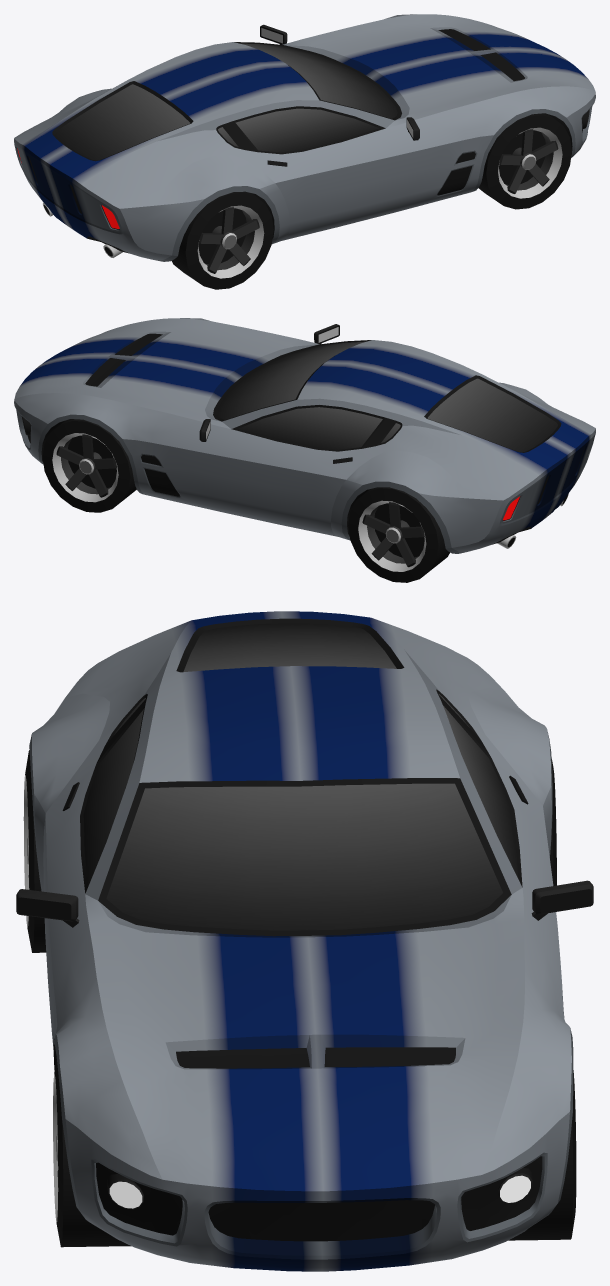
Rendered from Car_079.glb.
3 views of the same model, one above another, from view 1: azimuth 30°, elevation 25°; view 2: azimuth 150°, elevation 25°; view 3: azimuth 270°, elevation 25° (orthographic). The views are drawn at different scales.
Visible parts, largest first — view 1: Car_079, wheel_2_Car_079_Wheel_3R, wheel_0_Car_079_Wheel_1R; view 2: Car_079, wheel_3_Car_079_Wheel_4L, wheel_1_Car_079_Wheel_2L; view 3: Car_079, wheel_0_Car_079_Wheel_1R, wheel_1_Car_079_Wheel_2L, wheel_2_Car_079_Wheel_3R.
Part boxes in pixels (box(x1,y1,x2,y2)): Car_079: box(14, 14, 595, 261); wheel_2_Car_079_Wheel_3R: box(172, 191, 273, 289); wheel_0_Car_079_Wheel_1R: box(478, 113, 571, 209); Car_079: box(14, 318, 595, 553); wheel_3_Car_079_Wheel_4L: box(348, 487, 449, 582); wheel_1_Car_079_Wheel_2L: box(42, 419, 136, 512); Car_079: box(16, 611, 593, 1271); wheel_0_Car_079_Wheel_1R: box(53, 1058, 131, 1247); wheel_1_Car_079_Wheel_2L: box(508, 1070, 576, 1240); wheel_2_Car_079_Wheel_3R: box(23, 750, 46, 952).
Size of the model in its own units: 4.8 by 1.29 by 2.29.
2 materials, 2 textured.
